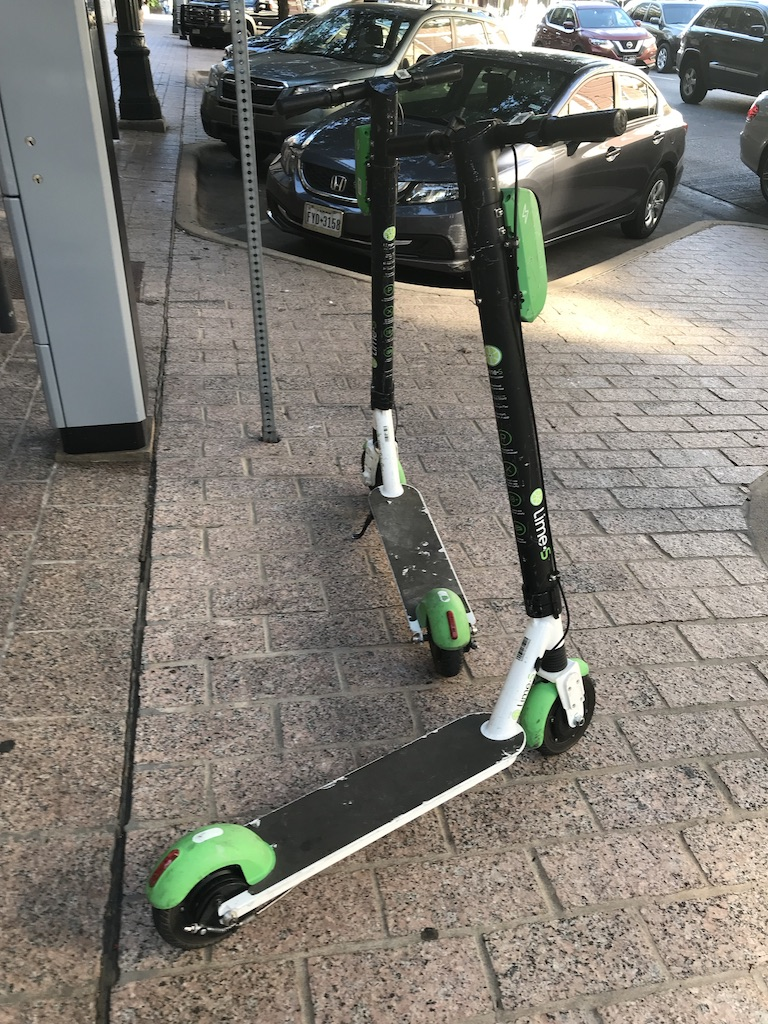scooter: (391, 110, 630, 712), (275, 62, 480, 677)
